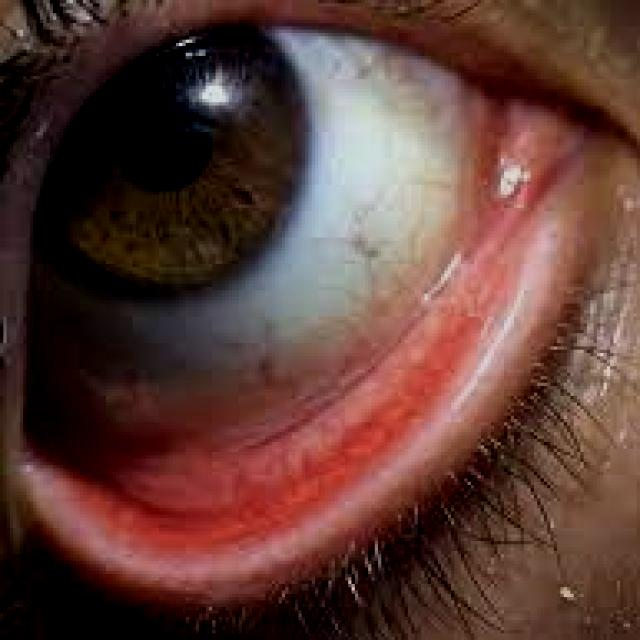conjunctiva_pallor: (30, 174, 561, 568)
